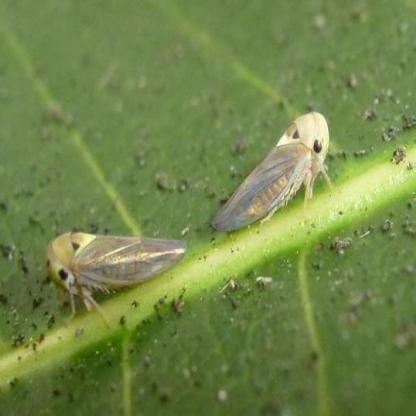grasshopper: (211, 107, 338, 228), (42, 221, 189, 312)
